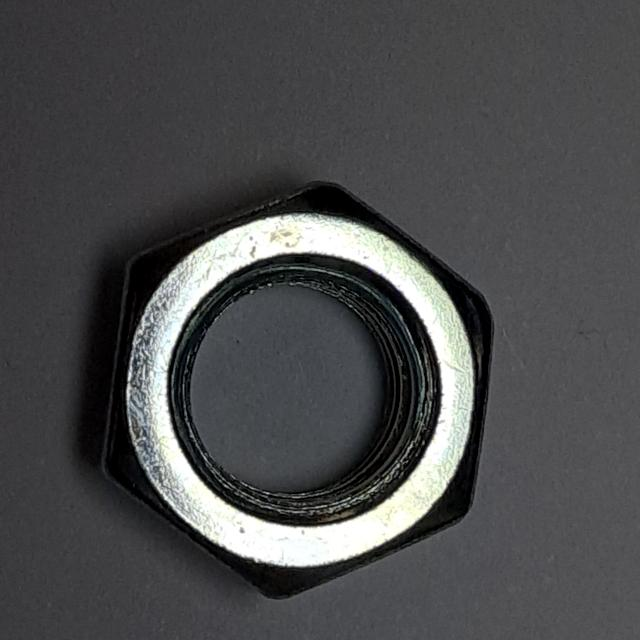Excellent: (85, 171, 503, 607)
